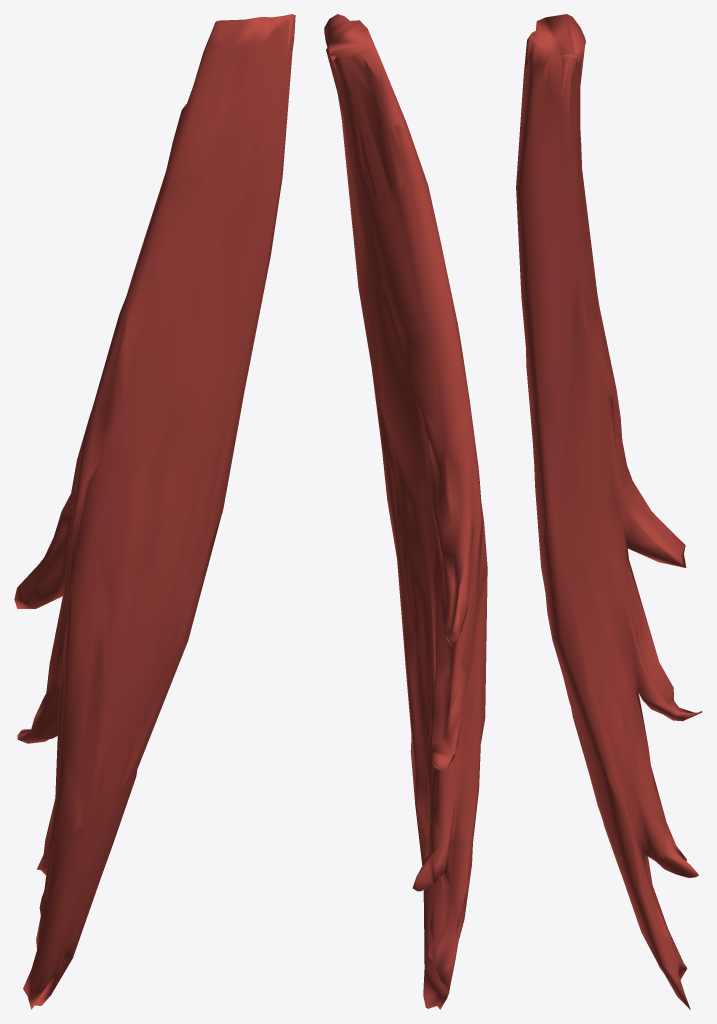
The model's file is musculos-longus-capitis-muscle-r.glb.
3 views of the same model, side by side, from view 1: azimuth 30°, elevation 25°; view 2: azimuth 150°, elevation 25°; view 3: azimuth 270°, elevation 25° (orthographic). The views are drawn at different scales.
Visible parts, largest first — view 1: Longus capitis muscle.r; view 2: Longus capitis muscle.r; view 3: Longus capitis muscle.r.
Boxes of the visible parts, x1,y1,x2,y2 form: Longus capitis muscle.r: (14,14,295,1009); Longus capitis muscle.r: (324,14,487,1009); Longus capitis muscle.r: (516,14,702,1009).
Size of the model in its own units: 0.0243 by 0.1101 by 0.0175.
